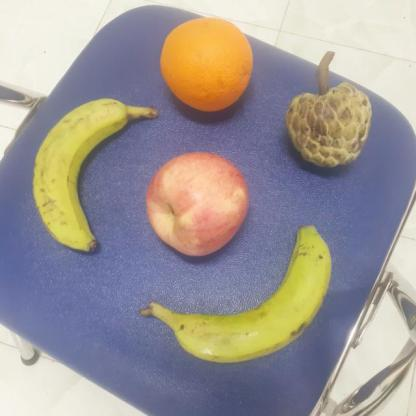annona: (283, 82, 372, 173)
apple: (134, 148, 251, 268)
banana: (142, 222, 336, 366), (29, 98, 159, 250)
orange: (160, 14, 256, 115)
